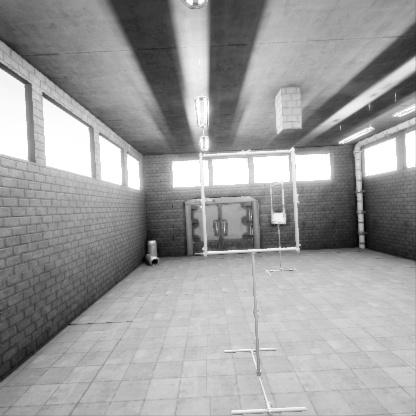gate: (203, 167, 303, 267), (270, 193, 285, 236)
